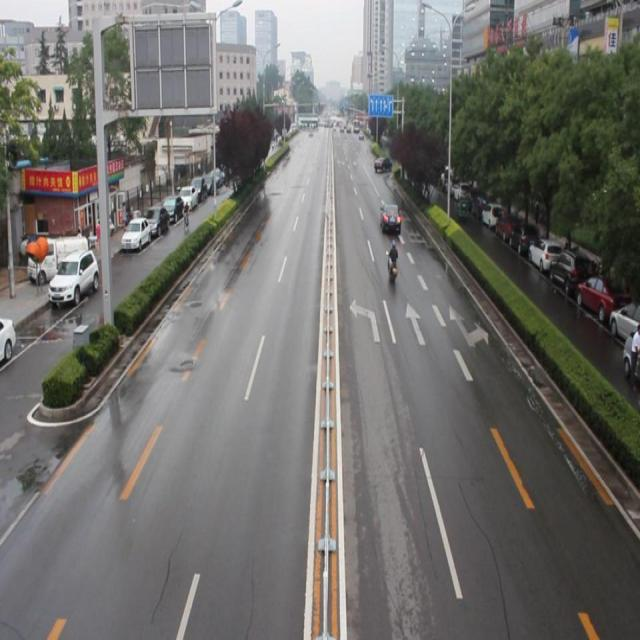car: (378, 200, 401, 234), (374, 156, 392, 172)
